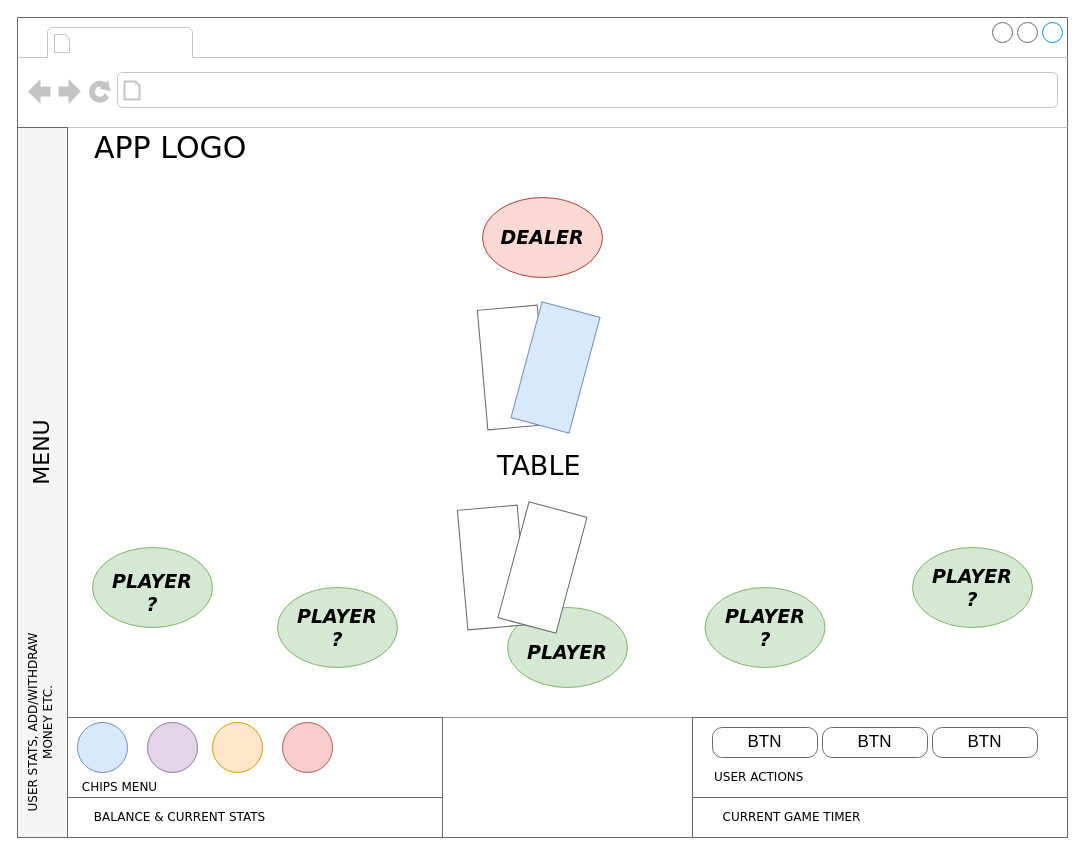
This 1085x855 diagram has some shape labels left out. Each missing label, with the centre of its shape:
BlackJack: point 132,42
https://www.blackjackapp.com: point 272,90
